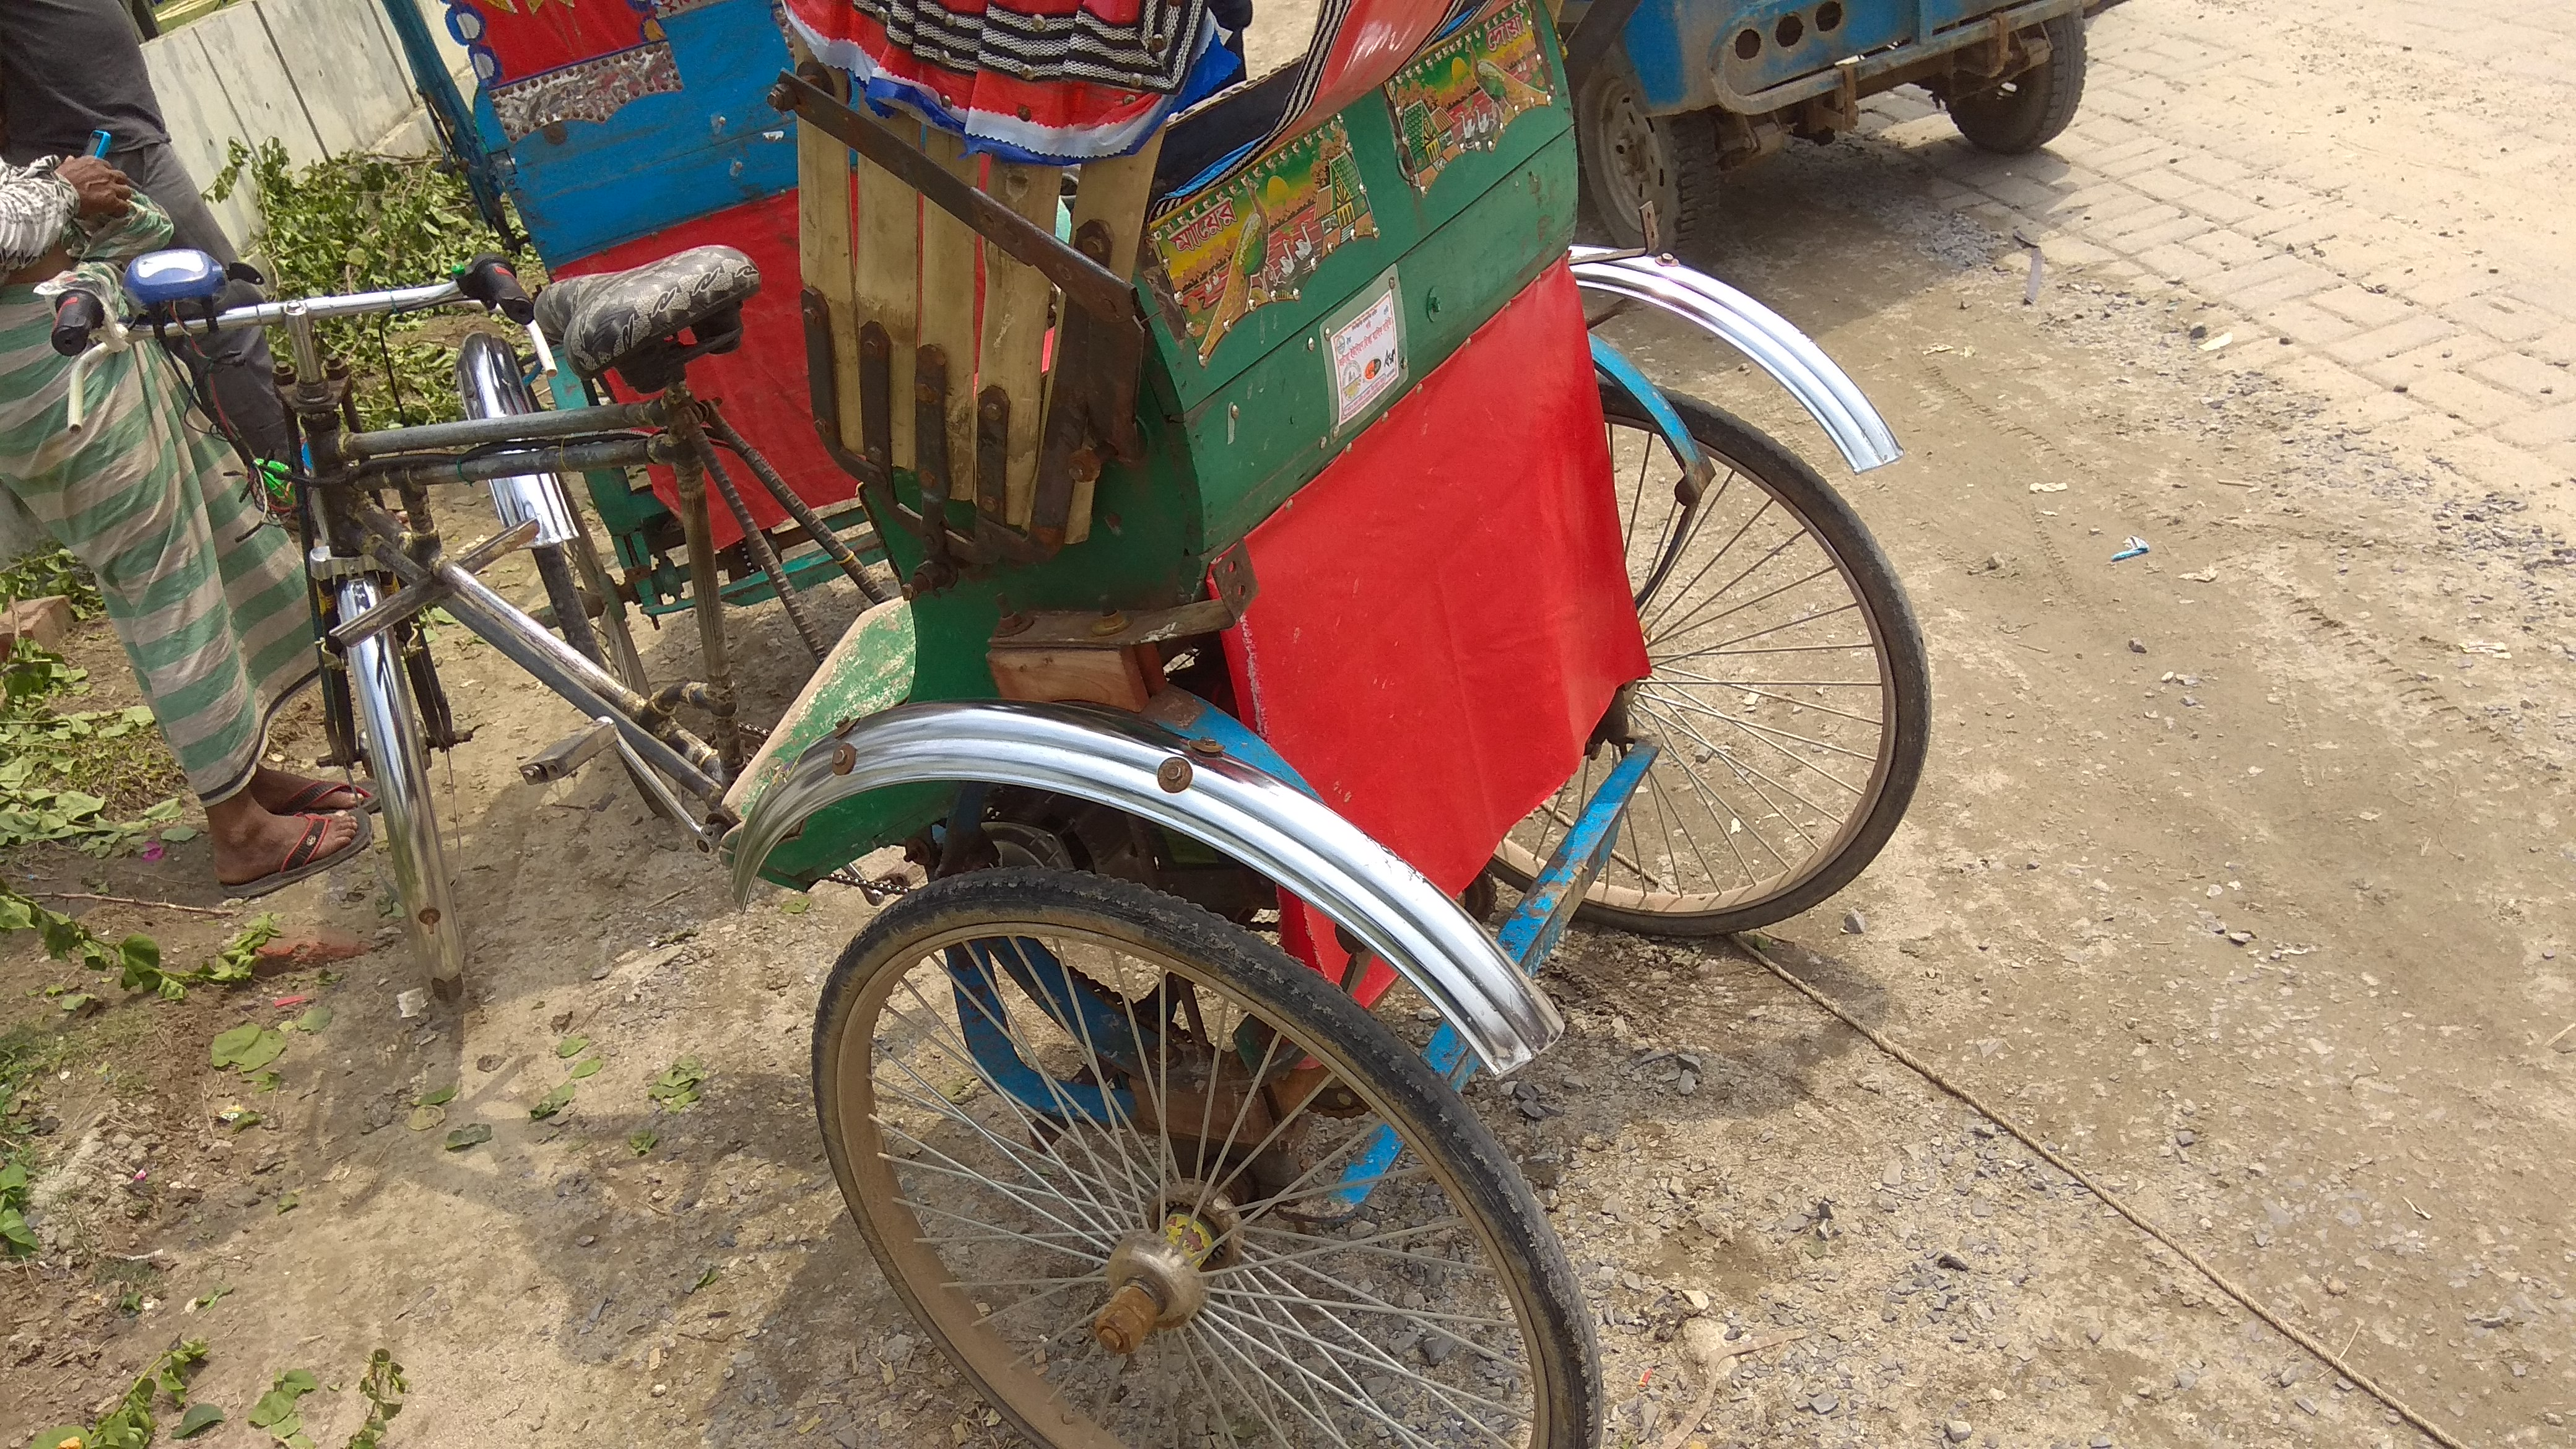Rickshaw: (44, 4, 1946, 1376), (357, 4, 1031, 789)
